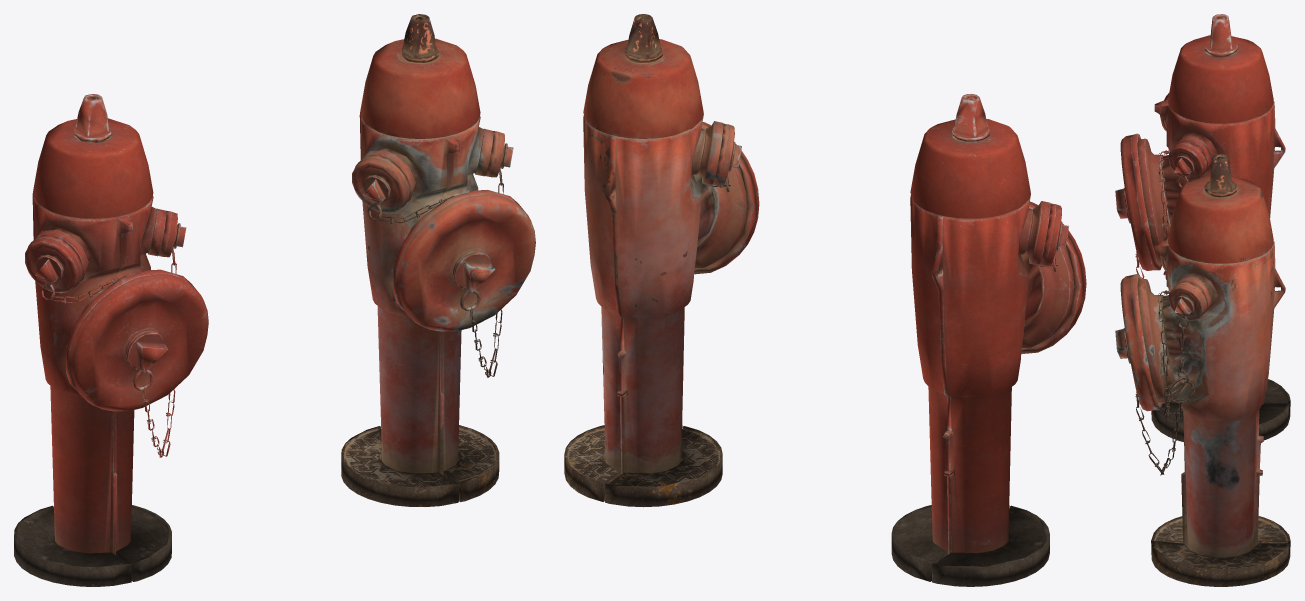
The model's file is fire_hydrant.glb.
3 renders of one model, left to right at view 1: azimuth 30°, elevation 25°; view 2: azimuth 150°, elevation 25°; view 3: azimuth 270°, elevation 25°, orthographic. The views are drawn at different scales.
Visible parts, largest first — view 1: fire_hydrant_aged, fire_hydrant; view 2: fire_hydrant, fire_hydrant_aged; view 3: fire_hydrant_aged, fire_hydrant.
Boxes of the visible parts, bbox=[...] form: fire_hydrant_aged: bbox=[341, 14, 535, 506]; fire_hydrant: bbox=[14, 94, 208, 586]; fire_hydrant: bbox=[891, 94, 1086, 586]; fire_hydrant_aged: bbox=[564, 14, 759, 507]; fire_hydrant_aged: bbox=[1115, 154, 1290, 586]; fire_hydrant: bbox=[1115, 14, 1290, 441].
Bounding box in the file's own units: 0.8752 × 0.8 × 0.3176.
Materials: 2 (2 with a texture image).
